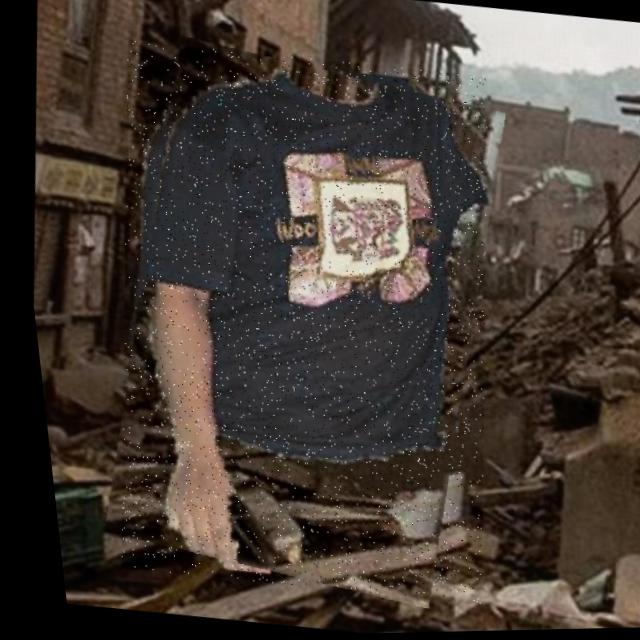Person in Rubble: (61, 34, 531, 611)
